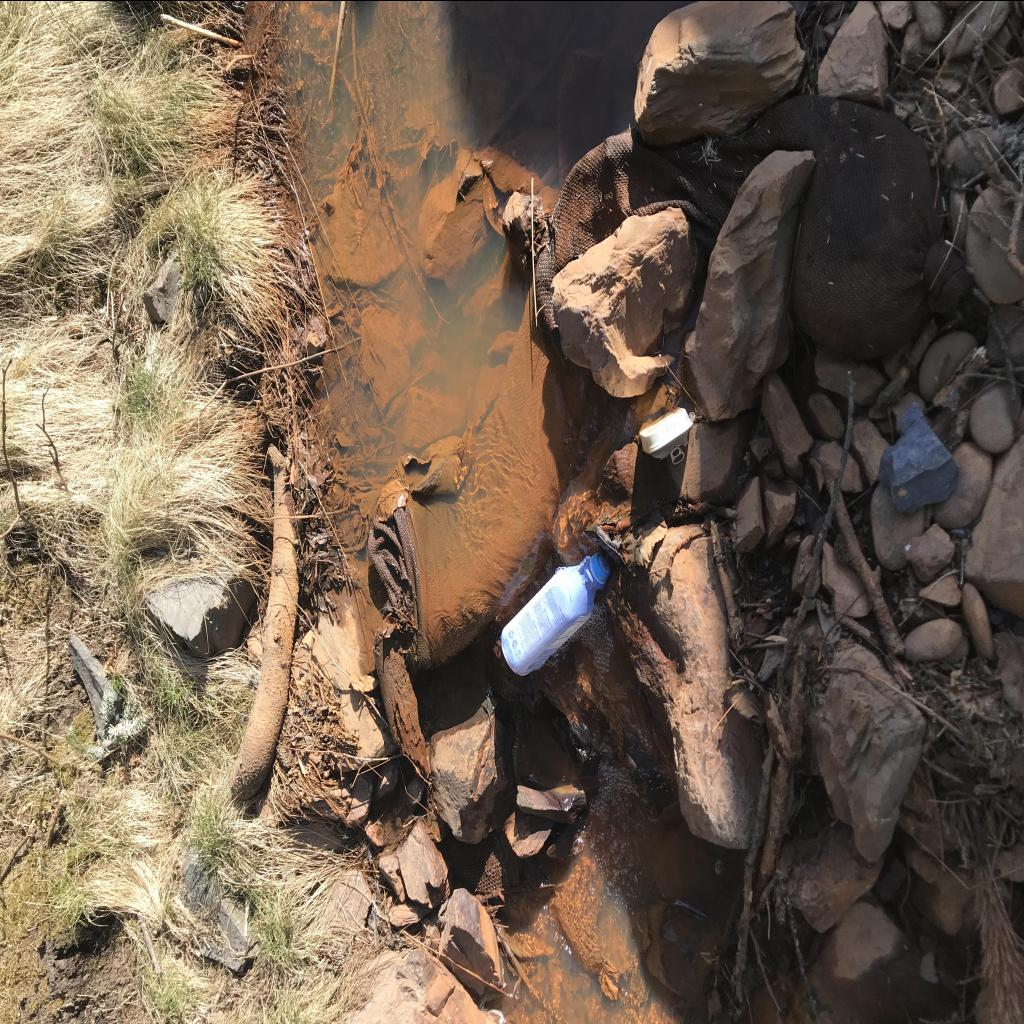Food Can: (640, 406, 692, 462)
Other plastic container: (501, 552, 611, 676)
Plastic bottle cap: (592, 552, 612, 581)
Pop tab: (670, 446, 684, 464)
